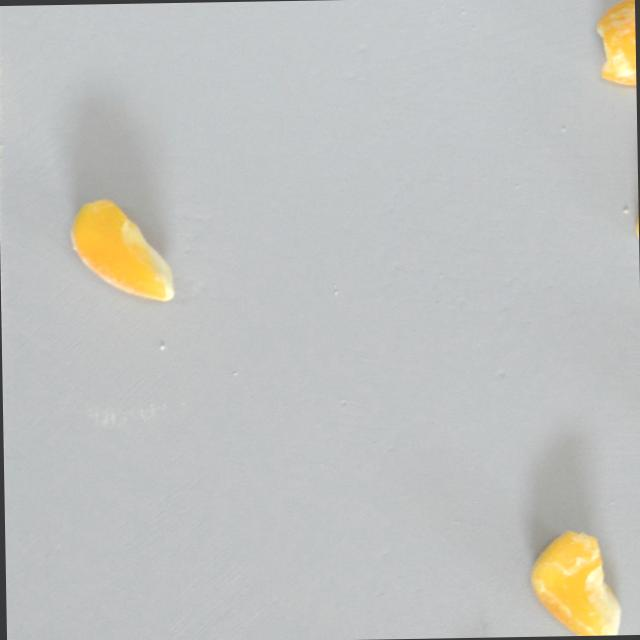estandar: (66, 194, 179, 309)
pelicula: (513, 543, 640, 637), (594, 0, 636, 86)
